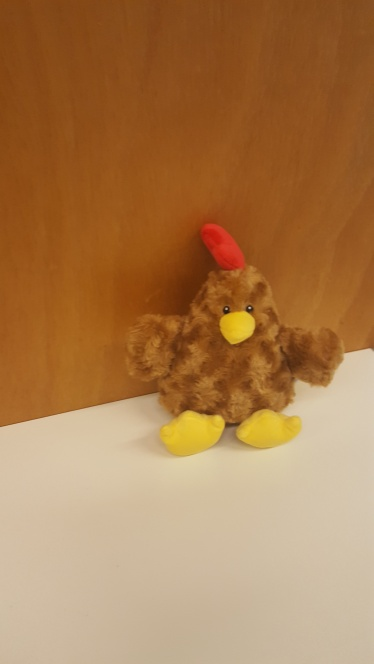chicken_front: (124, 220, 346, 456)
